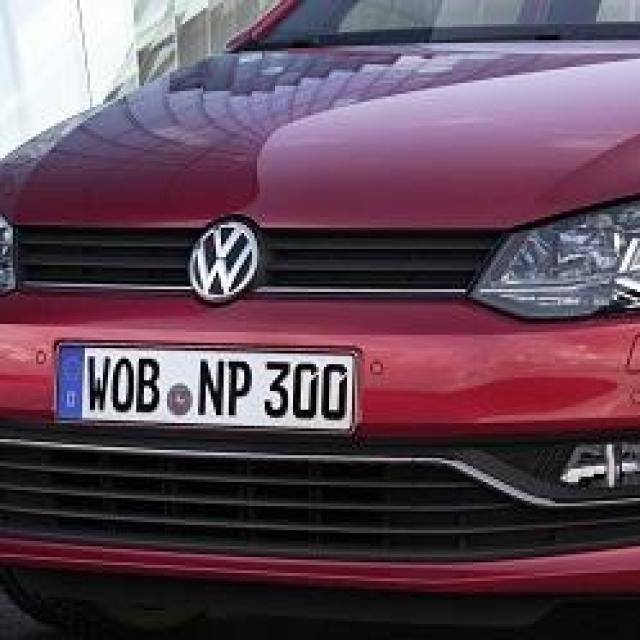number_plate: (77, 340, 355, 429)
